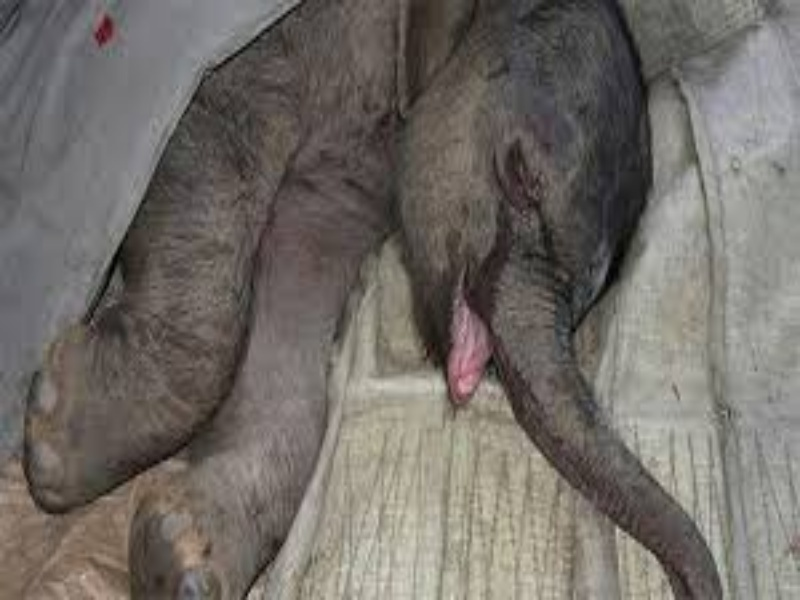elephant: (43, 1, 702, 596)
